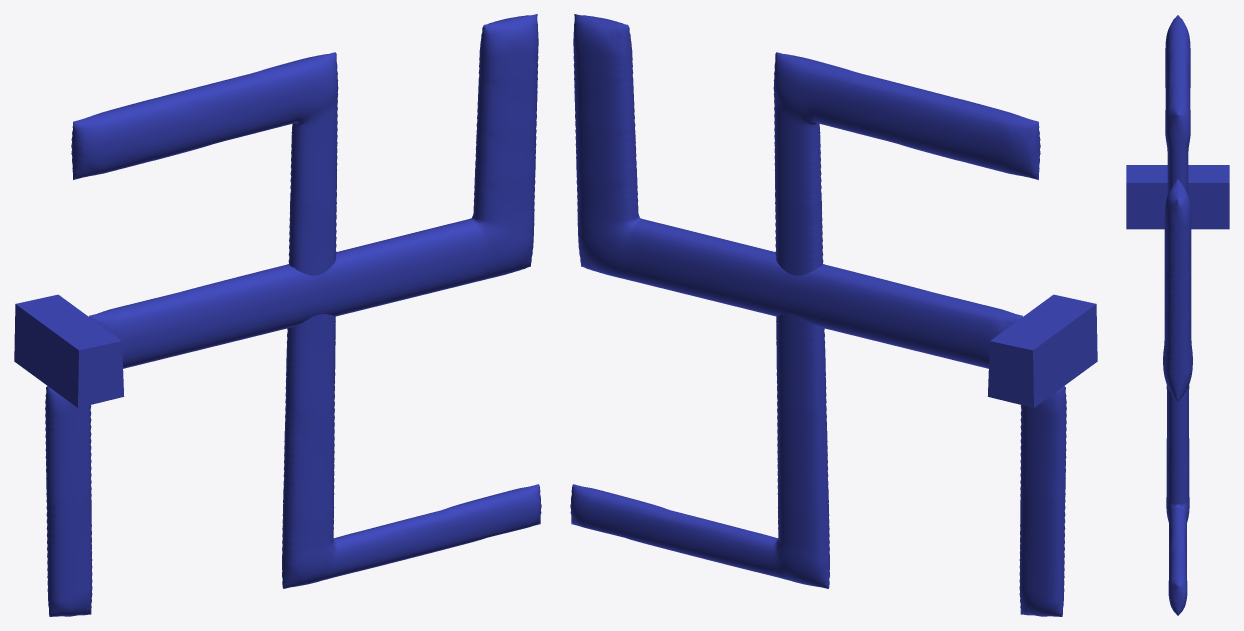
File: Manji.fbx
3 renders of one model, left to right at view 1: azimuth 30°, elevation 25°; view 2: azimuth 150°, elevation 25°; view 3: azimuth 270°, elevation 25°, orthographic. The views are drawn at different scales.
Parts seen in each view (by area): view 1: root (×3); view 2: root (×3); view 3: root (×3).
Part boxes in pixels (left/top/right/bottom): root (×3): left=14, top=14, right=541, bottom=616; root (×3): left=570, top=14, right=1097, bottom=616; root (×3): left=1126, top=15, right=1229, bottom=615.
Bounding box in the file's own units: 0.4489 × 0.4547 × 0.1.
